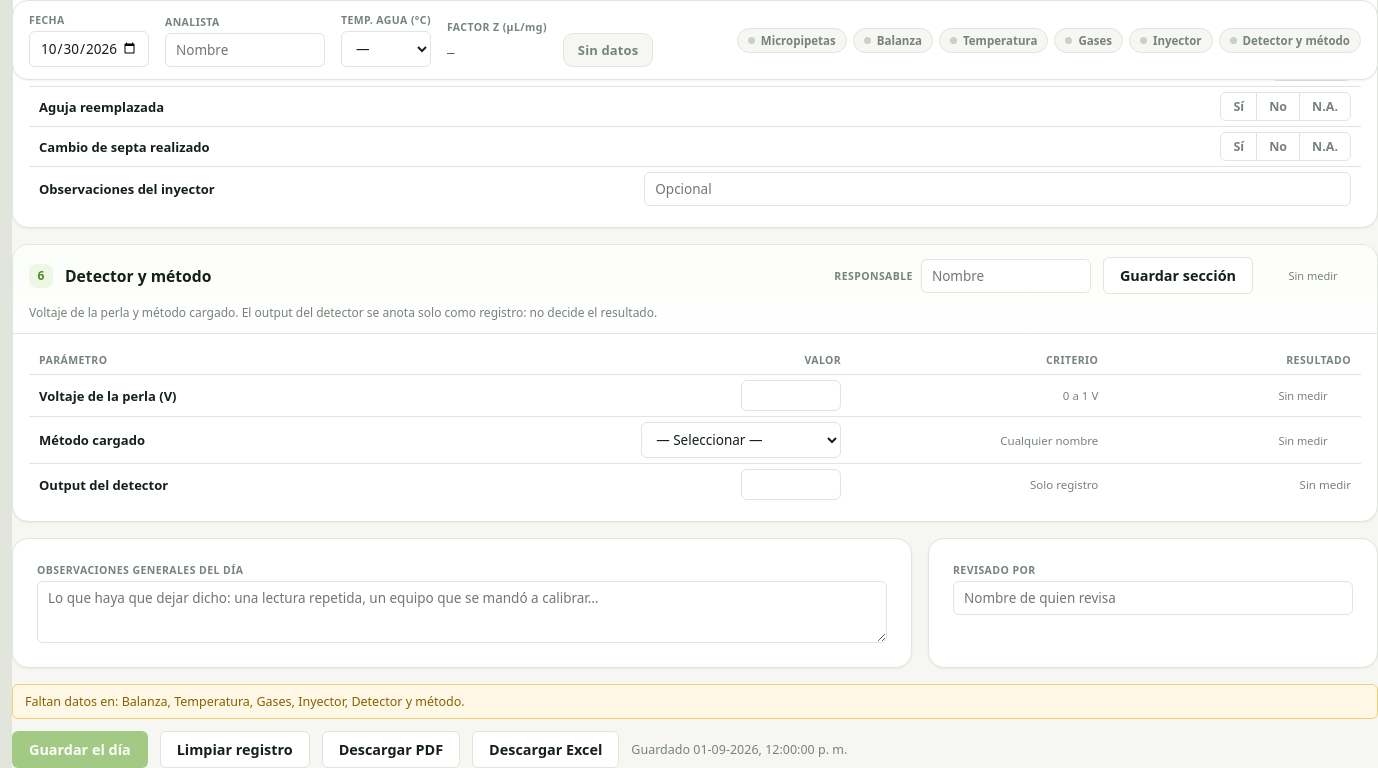
Test case: VerificacionesView › permite eliminar un día ya guardado después de confirmarlo
(page scrolled)
expect the text "Guardado 01-09-2026, 12:00:00 p. m." is shown: met, box [631,741,847,758]
Click the button "Limpiar registro" at (235, 750), box [160,731,310,767]
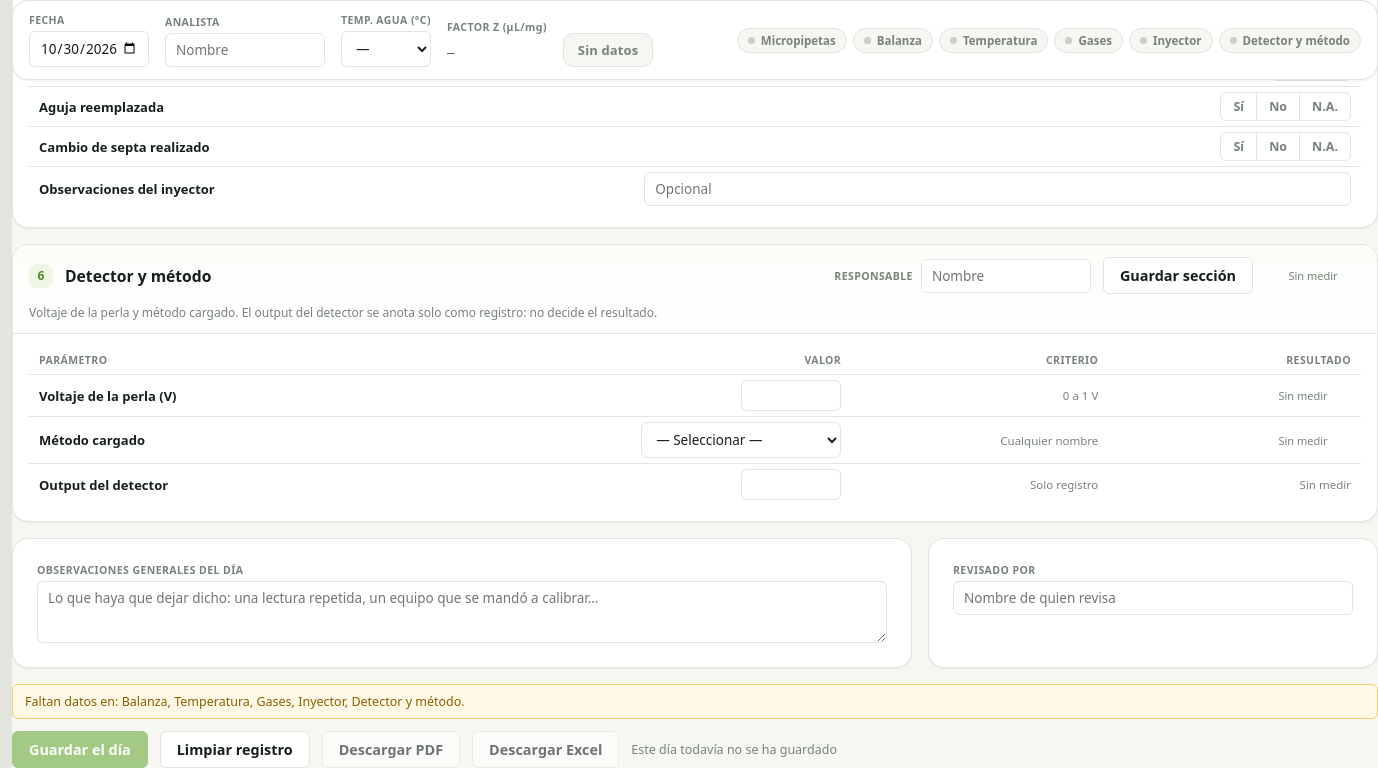
expect the text "Este día todavía no se ha guardado" is shown: met, box [631,741,837,758]
